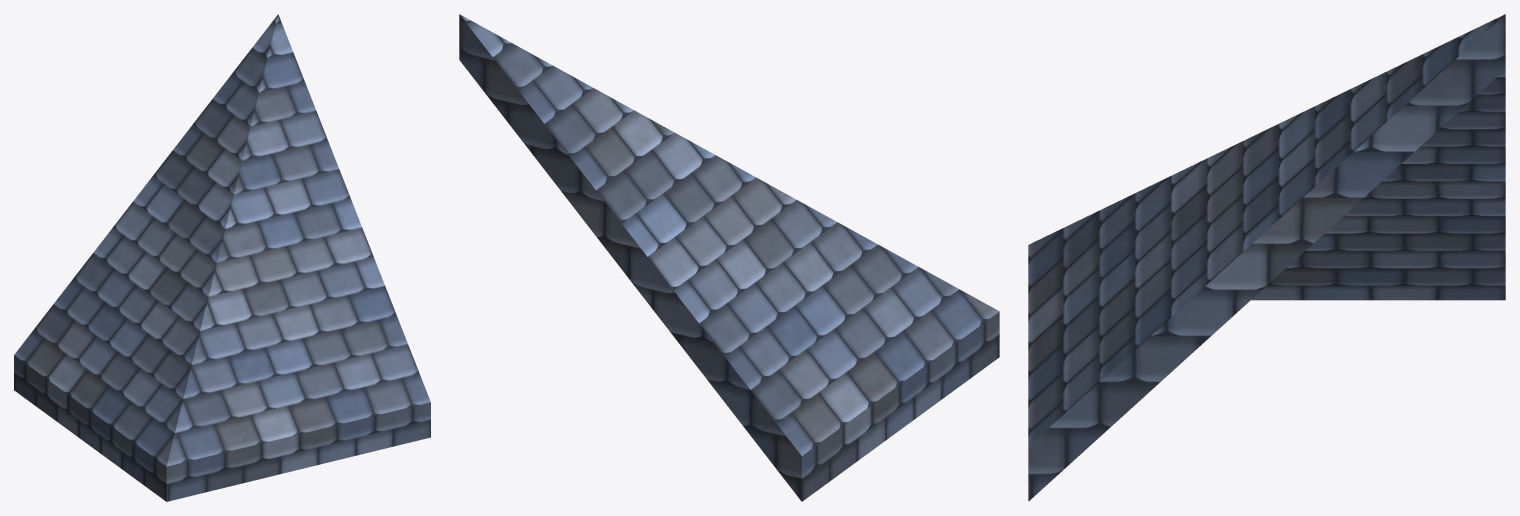
File: roof_slate_corner.glb
3 renders of one model, left to right at view 1: azimuth 30°, elevation 25°; view 2: azimuth 150°, elevation 25°; view 3: azimuth 270°, elevation 25°, orthographic. The views are drawn at different scales.
Visible parts, largest first — view 1: roof_slate_corner; view 2: roof_slate_corner; view 3: roof_slate_corner.
Boxes of the visible parts, x1=… form: roof_slate_corner: x1=14, y1=14, x2=430, y2=501; roof_slate_corner: x1=459, y1=14, x2=999, y2=501; roof_slate_corner: x1=1028, y1=14, x2=1505, y2=501.
Bounding box in the file's own units: 2.35 × 2.65 × 2.35.
1 material, 1 textured.
